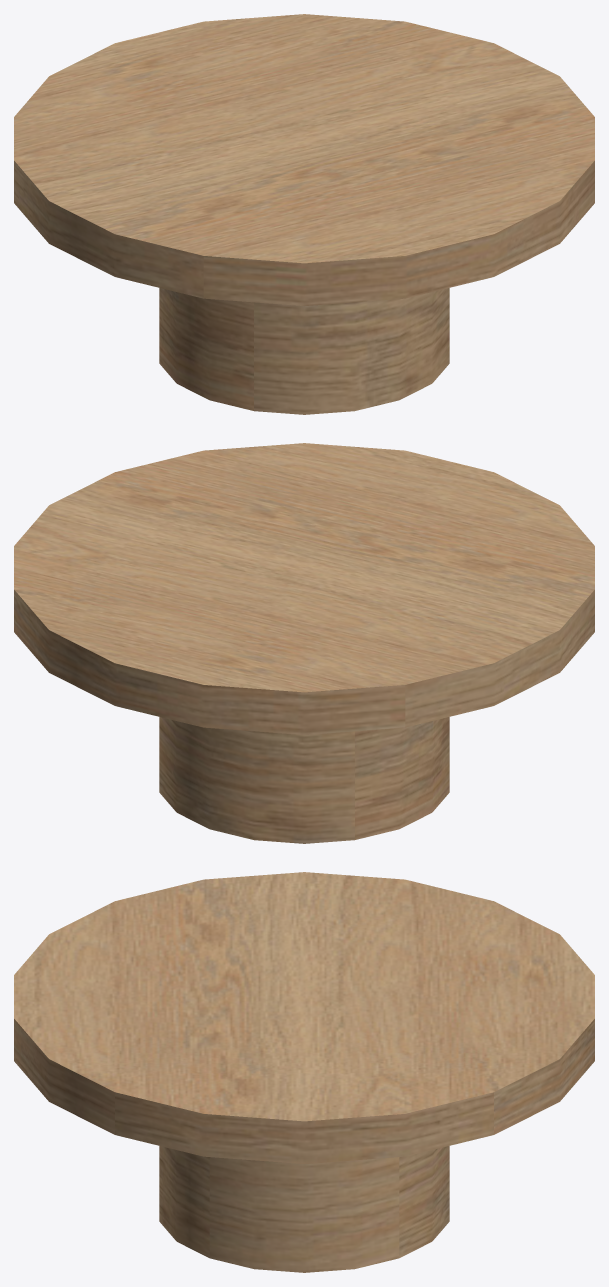
Rendered from Table_Circle.FBX.
3 views of the same model, one above another, from view 1: azimuth 30°, elevation 25°; view 2: azimuth 150°, elevation 25°; view 3: azimuth 270°, elevation 25° (orthographic).
Parts seen in each view (by area): view 1: Cylinder001; view 2: Cylinder001; view 3: Cylinder001.
Part boxes in pixels (box(x1,y1,x2,y2)): Cylinder001: box(14, 14, 594, 414); Cylinder001: box(14, 443, 594, 843); Cylinder001: box(14, 872, 594, 1272).
Size of the model in its own units: 200 by 80 by 197.
1 material, 1 textured.
